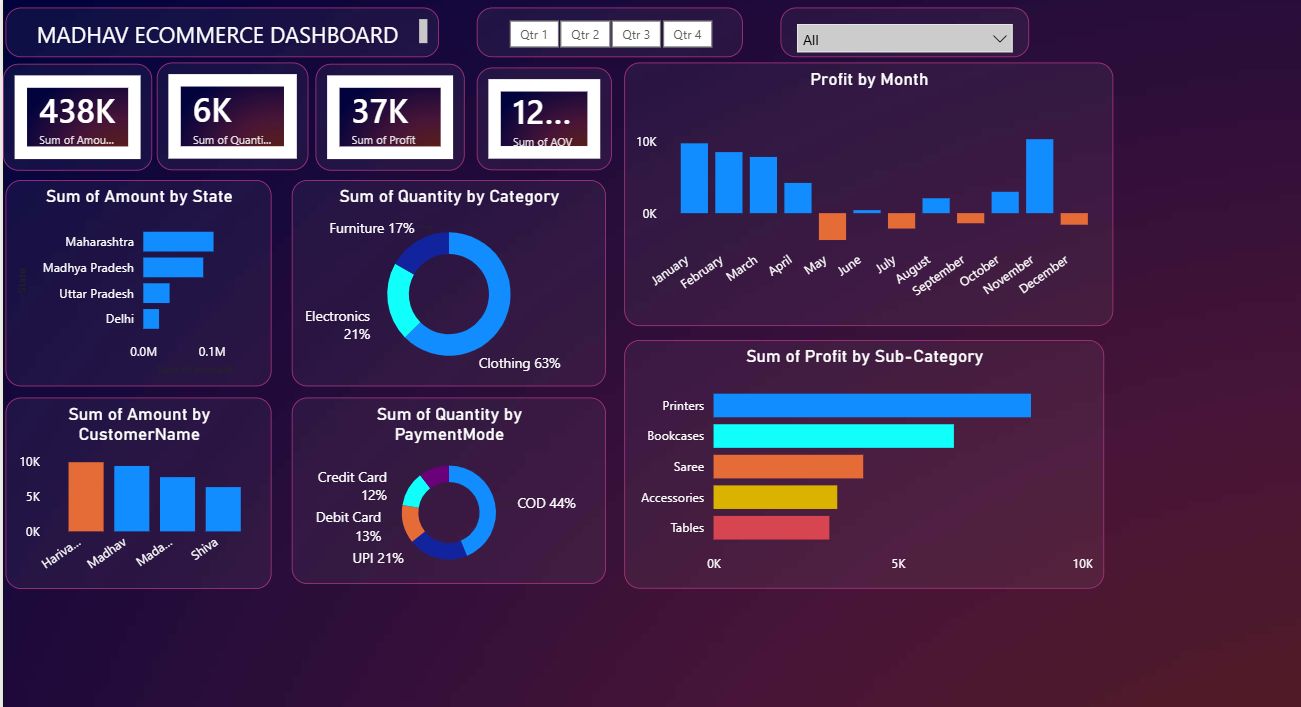

Layout of this report page (visuals, bound fields, positions):
{"tool":"powerbi","page":{"name":"Page 1","canvas":[1280,720],"ordinal":0},"visuals":[{"type":"textbox","box":[3,12,418,48],"z":0},{"type":"columnChart","title":"Profit by Month","fields":{"Category":["Orders.Order Date.Variation.Date Hierarchy.Month"],"Y":["Sum(Details.Profit)"]},"box":[600,65,472,254],"z":1000},{"type":"barChart","fields":{"Category":["Details.Sub-Category"],"Y":["Sum(Details.Profit)"]},"box":[600,333,463,240],"z":2000},{"type":"donutChart","fields":{"Category":["Details.Category"],"Y":["Sum(Details.Quantity)"]},"box":[279,179,303,199],"z":3000},{"type":"donutChart","fields":{"Category":["Details.PaymentMode"],"Y":["Sum(Details.Quantity)"]},"box":[279,388,303,180],"z":4000},{"type":"cardVisual","fields":{"Data":["Sum(Details.Amount)"]},"box":[0,66,144,103],"z":5000},{"type":"cardVisual","fields":{"Data":["Sum(Details.Quantity)"]},"box":[148,65,146,104],"z":6000},{"type":"cardVisual","fields":{"Data":["Sum(Details.Profit)"]},"box":[302,66,144,103],"z":7000},{"type":"cardVisual","fields":{"Data":["Sum(Details.AOV)"]},"box":[457,70,130,99],"z":8000},{"type":"clusteredBarChart","fields":{"Category":["Orders.State"],"Y":["Sum(Details.Amount)"]},"box":[3,179,257,199],"z":9000},{"type":"columnChart","fields":{"Category":["Orders.CustomerName"],"Y":["Sum(Details.Amount)"]},"box":[3,388,257,185],"z":10000},{"type":"slicer","fields":{"Values":["Orders.Order Date.Variation.Date Hierarchy.Quarter"]},"box":[457,12,257,48],"z":11000},{"type":"slicer","fields":{"Values":["Orders.State"]},"box":[751,12,240,48],"z":12000}]}

Visuals, with their boxes on the page's 1280x720 design canvas (x1, y1, x2, y2). These are canvas units, not pixel positions in the 1301x707 screenshot, which may show the page scaled, cropped or inside an application window:
textbox: 3,12,421,60
"Profit by Month" columnChart: 600,65,1072,319
barChart - Details.Sub-Category x Sum(Details.Profit): 600,333,1063,573
donutChart - Details.Category x Sum(Details.Quantity): 279,179,582,378
donutChart - Details.PaymentMode x Sum(Details.Quantity): 279,388,582,568
cardVisual - Sum(Details.Amount): 0,66,144,169
cardVisual - Sum(Details.Quantity): 148,65,294,169
cardVisual - Sum(Details.Profit): 302,66,446,169
cardVisual - Sum(Details.AOV): 457,70,587,169
clusteredBarChart - Orders.State x Sum(Details.Amount): 3,179,260,378
columnChart - Orders.CustomerName x Sum(Details.Amount): 3,388,260,573
slicer - Orders.Order Date.Variation.Date Hierarchy.Quarter: 457,12,714,60
slicer - Orders.State: 751,12,991,60
